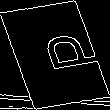P_W: (13, 31, 97, 79)
